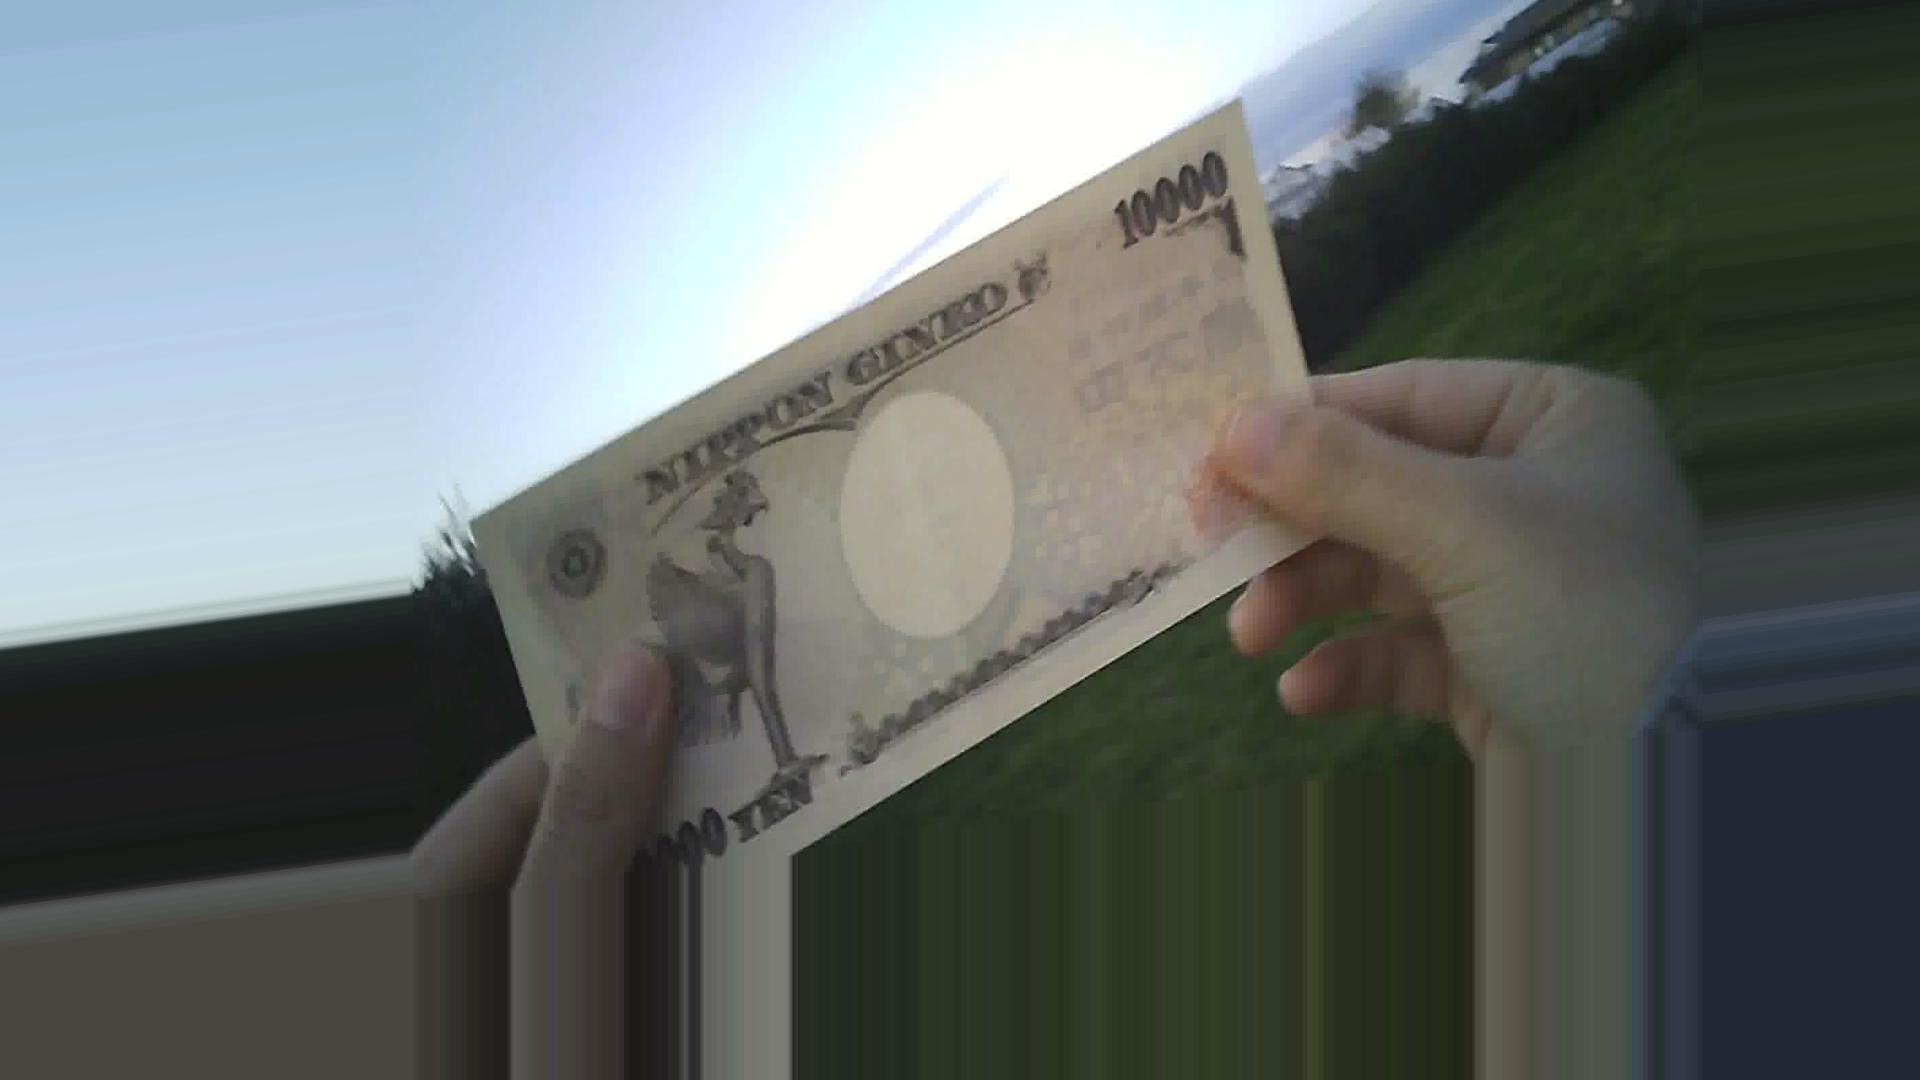10,000 Yen: (423, 87, 1335, 872)
